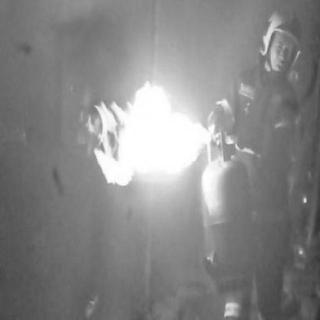other: (216, 286, 244, 316), (271, 114, 303, 131)
